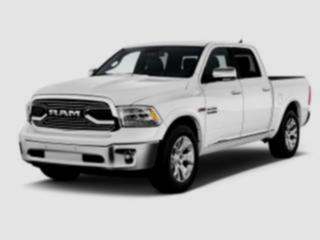ram: (45, 105, 83, 120)
